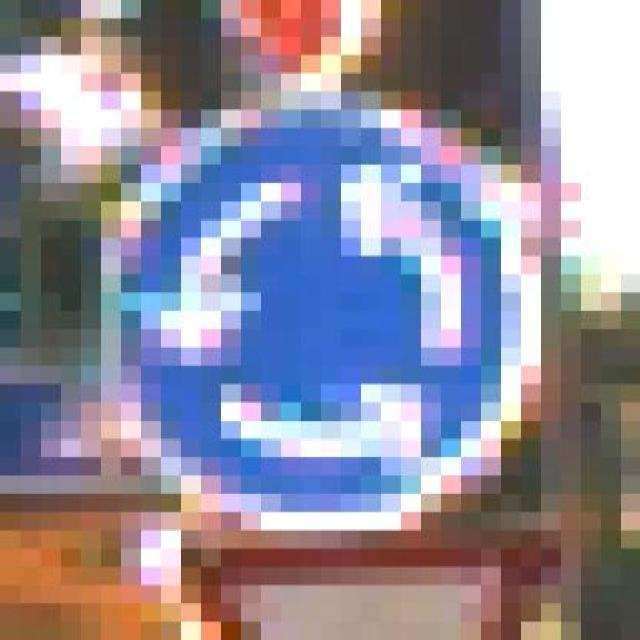Round-About: (40, 91, 600, 567)
